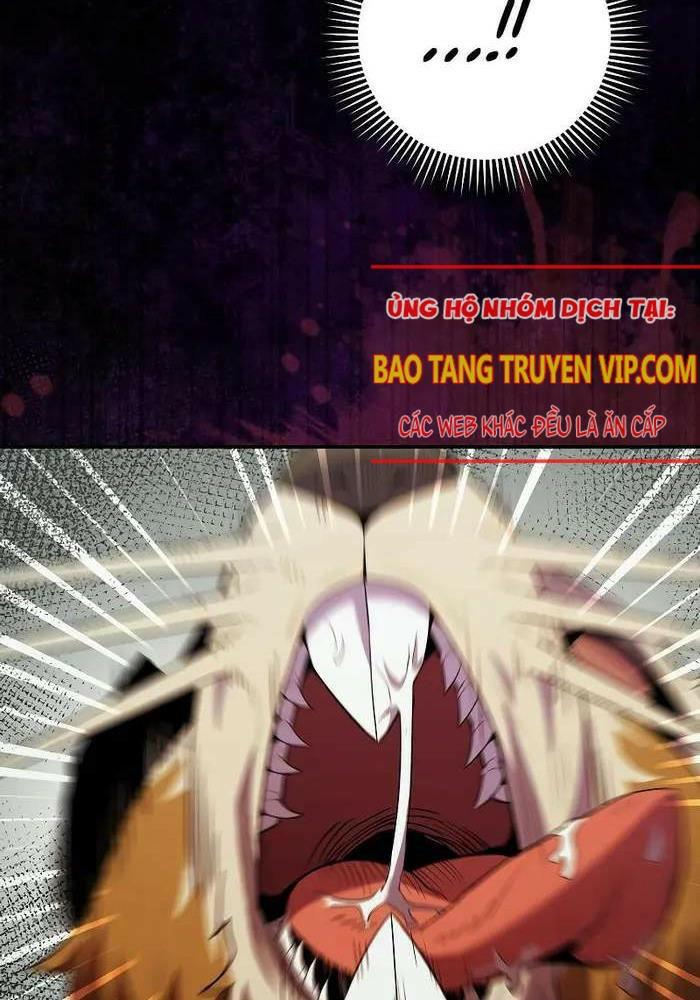quangcao: (370, 264, 700, 464)
